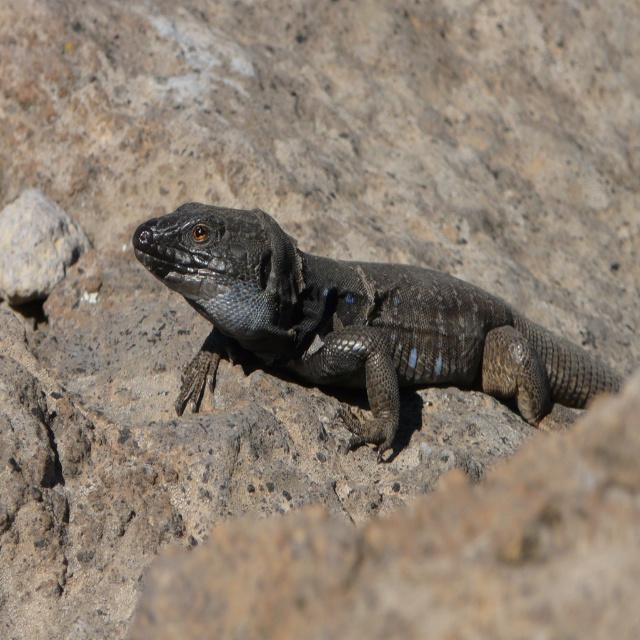Lizard: (132, 201, 626, 463)
